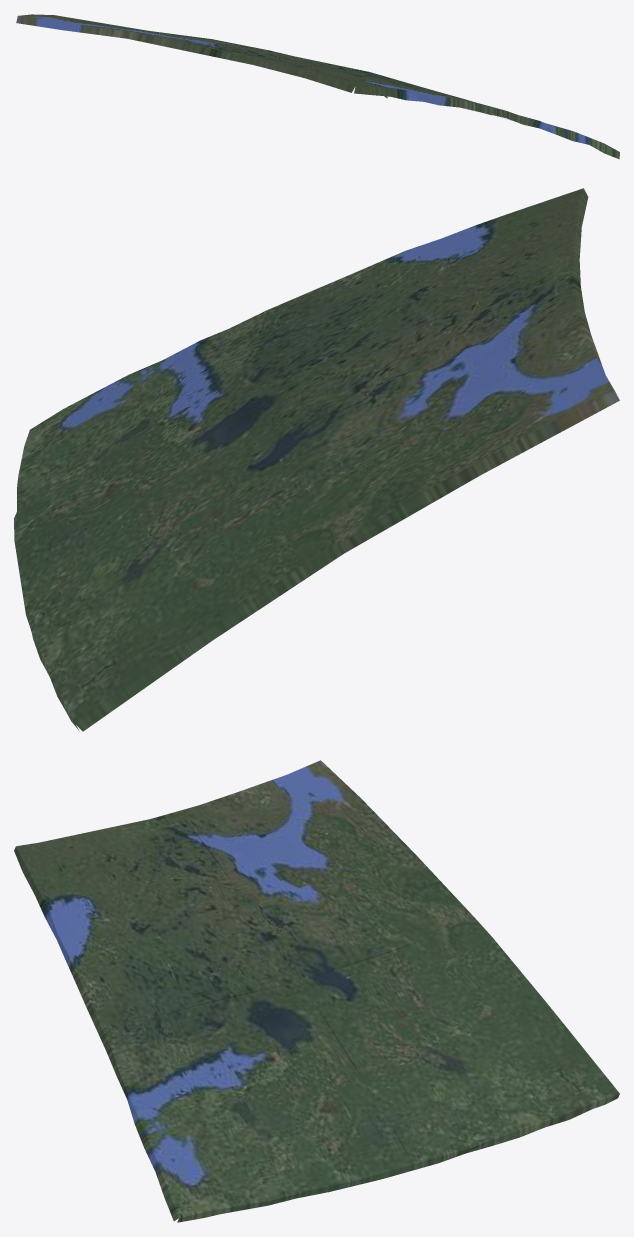
3 renders of one model, top to bottom at view 1: azimuth 30°, elevation 25°; view 2: azimuth 150°, elevation 25°; view 3: azimuth 270°, elevation 25°, orthographic. The views are drawn at different scales.
Size of the model in its own units: 1569061 by 616910 by 1586514.
1 material, 1 textured.
